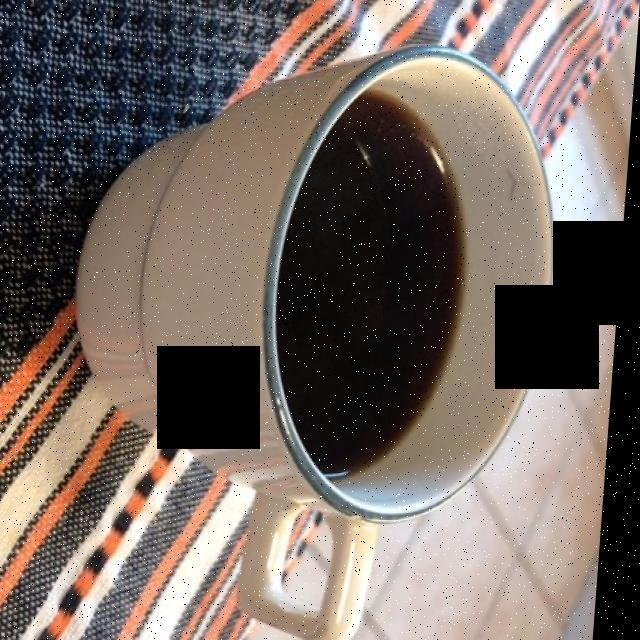coffee: (282, 97, 469, 474)
